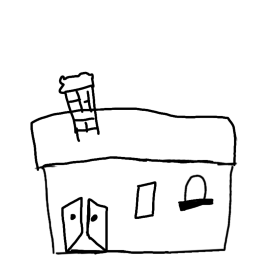bottom_placed_house: (1, 1, 260, 260)
chimney: (55, 63, 106, 140)
door: (55, 184, 117, 257)
open_window: (174, 172, 218, 215), (131, 178, 164, 226)
roof: (13, 101, 244, 170)
wall: (36, 154, 239, 259)
